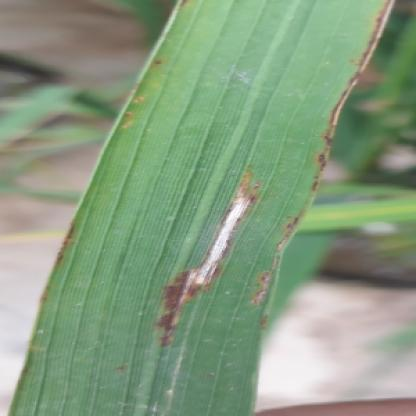Rice blast: (127, 166, 274, 348)
